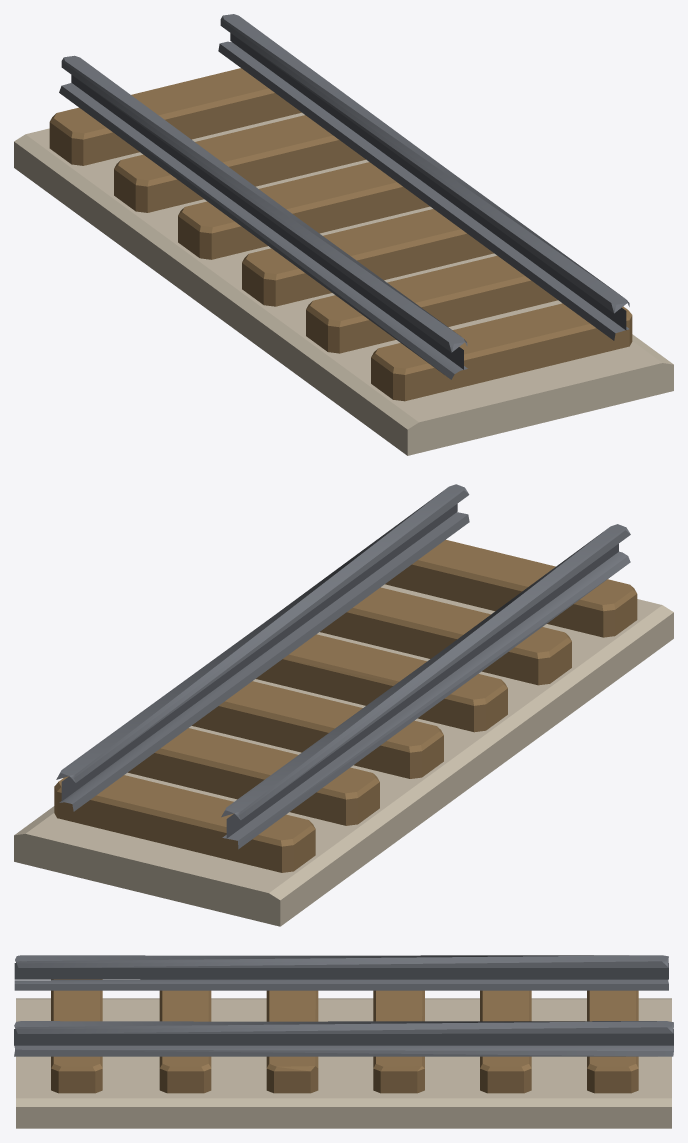
File: 火车轨道.glb
3 renders of one model, top to bottom at view 1: azimuth 30°, elevation 25°; view 2: azimuth 150°, elevation 25°; view 3: azimuth 270°, elevation 25°, orthographic. The views are drawn at different scales.
Parts seen in each view (by area): view 1: 轨道; view 2: 轨道; view 3: 轨道.
Boxes of the visible parts, box(x1,y1,x2,y2) form: 轨道: box(14, 14, 673, 455); 轨道: box(14, 484, 673, 926); 轨道: box(14, 955, 673, 1128).
Size of the model in its own units: 3.89 by 1.4 by 10.01.
3 materials, 3 textured.
